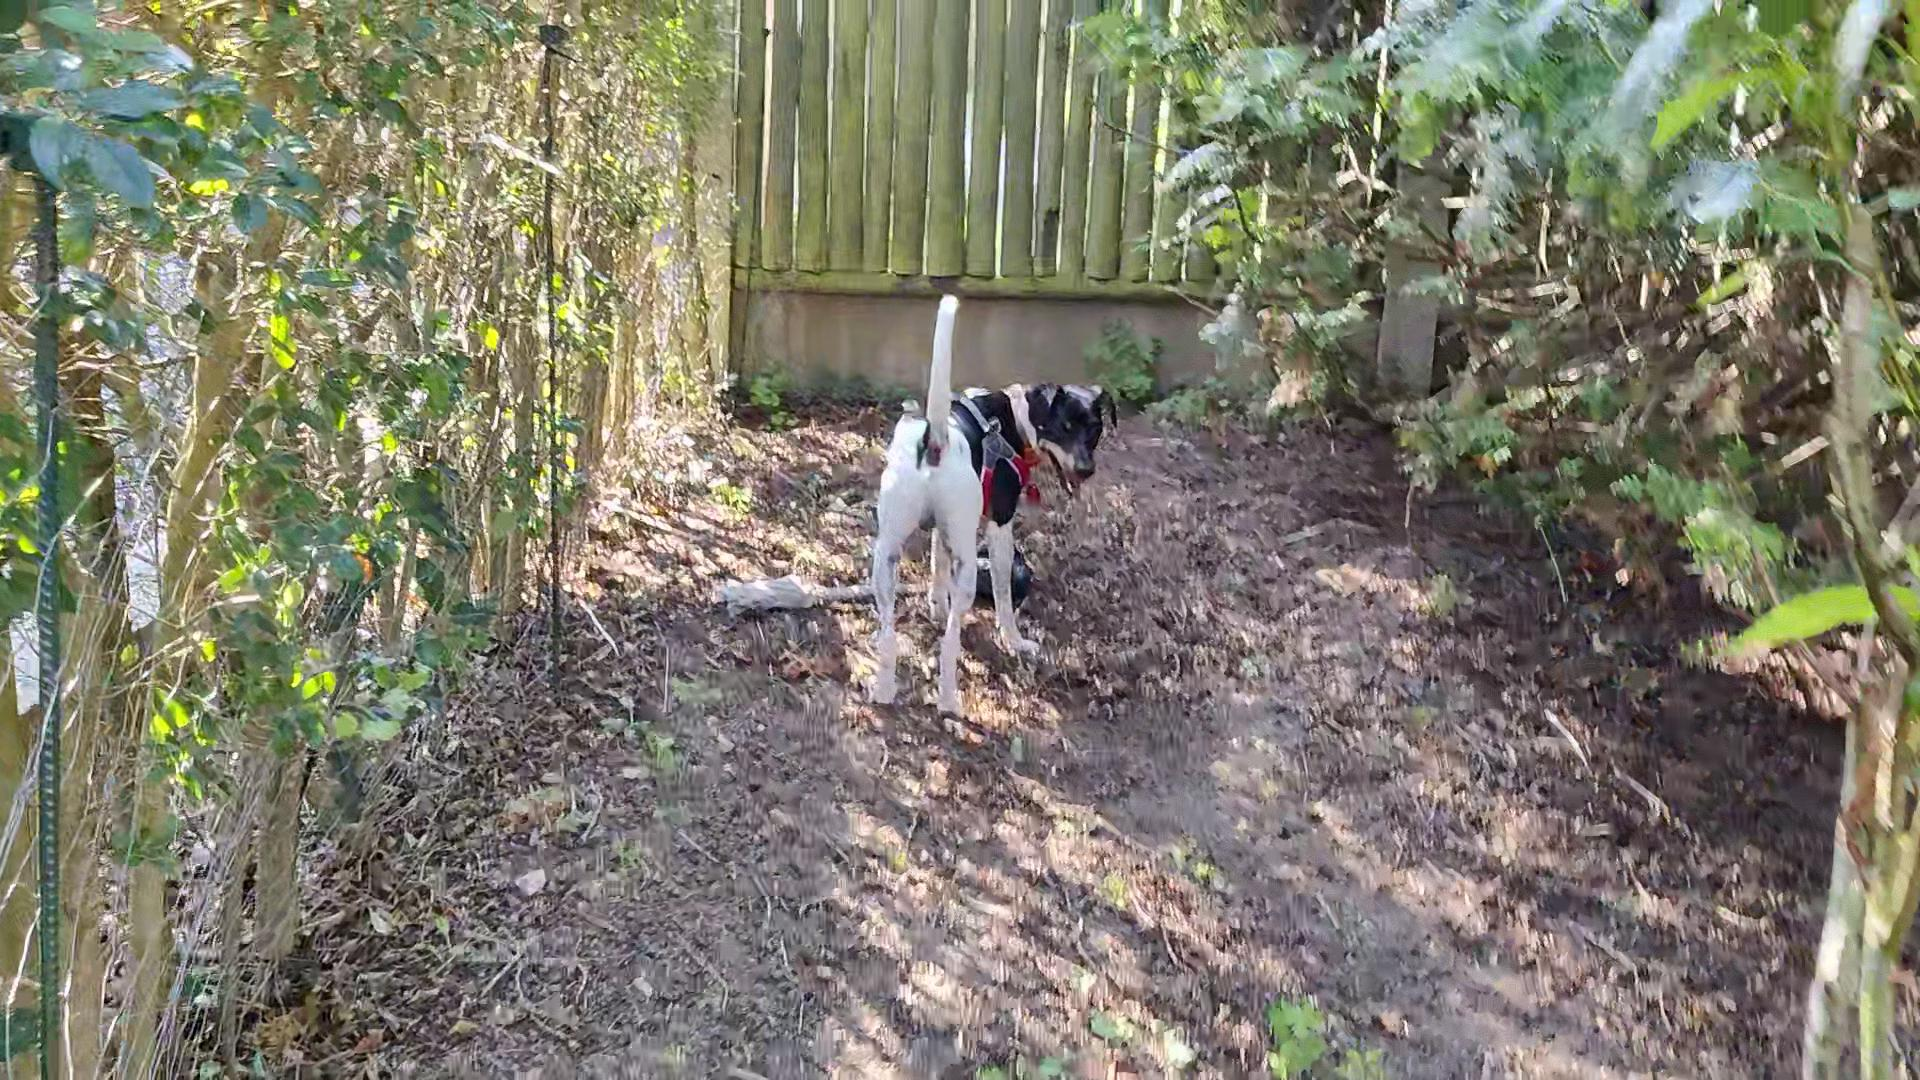Dog: (837, 281, 1127, 719)
